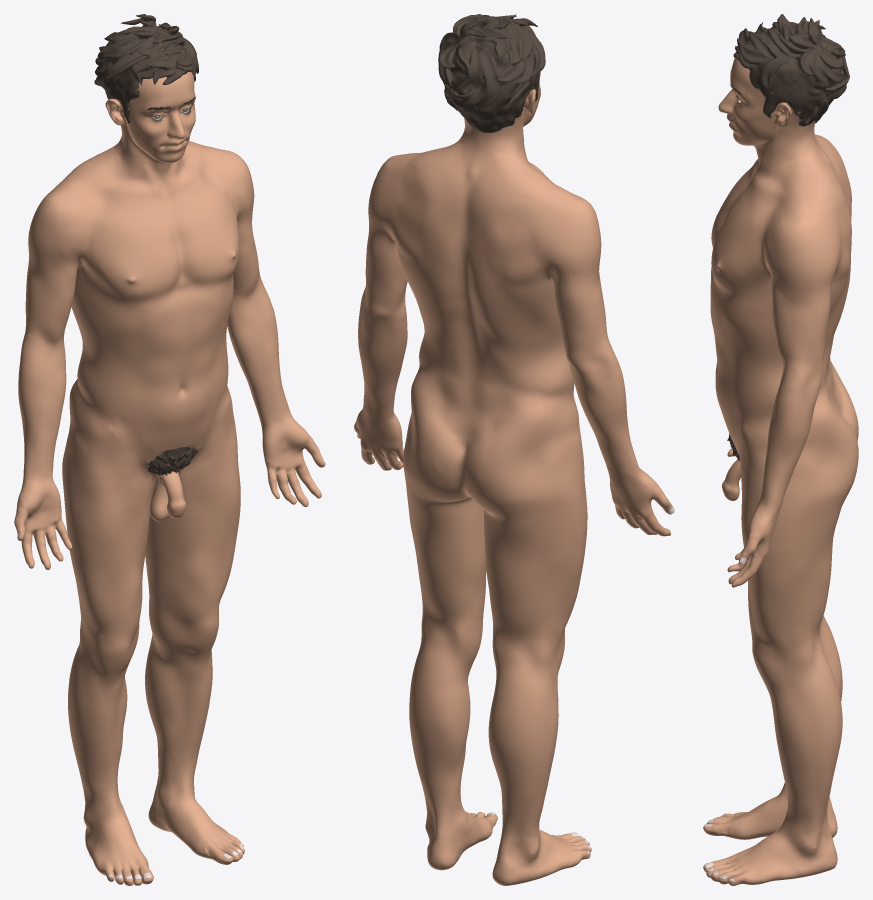
The model's file is skin.glb.
3 views of the same model, side by side, from view 1: azimuth 30°, elevation 25°; view 2: azimuth 150°, elevation 25°; view 3: azimuth 270°, elevation 25° (orthographic). The views are drawn at different scales.
Visible parts, largest first — view 1: SKN.anterior_region_of_thigh.R, SKN.anterior_region_of_thigh.L, SKN.hairs_of_head.C, SKN.anterior_region_of_leg.L, SKN.anterior_region_of_leg.R, SKN.pectoral_region.R, SKN.deltoid_region.R, SKN.anterior_region_of_forearm.L, SKN.anterior_region_of_forearm.R, SKN.lateral_region_of_thorax.R, SKN.lateral_region_of_abdomen.R, SKN.pectoral_region.L (+47 smaller); view 2: SKN.posterior_region_of_thigh.R, SKN.hairs_of_head.C, SKN.gluteal_region.R, SKN.posterior_region_of_thigh.L, SKN.posterior_region_of_leg.R, SKN.posterior_region_of_leg.L, SKN.gluteal_region.L, SKN.scapular_region.R, SKN.posterior_region_of_arm.R, SKN.infrascapular_region.R, SKN.scapular_region.L, SKN.posterior_region_of_forearm.R (+32 smaller); view 3: SKN.hairs_of_head.C, SKN.anterior_region_of_thigh.L, SKN.posterior_region_of_thigh.L, SKN.deltoid_region.L, SKN.gluteal_region.L, SKN.posterior_region_of_leg.L, SKN.lateral_region_of_thorax.L, SKN.anterior_region_of_leg.L, SKN.lateral_region_of_abdomen.L, SKN.pectoral_region.L, SKN.posterior_region_of_arm.L, SKN.posterior_region_of_neck.L (+45 smaller).
Boxes of the visible parts, left/top/right/bottom form: SKN.anterior_region_of_thigh.R: left=69, top=380, right=155, bottom=635; SKN.anterior_region_of_thigh.L: left=150, top=379, right=240, bottom=615; SKN.hairs_of_head.C: left=94, top=14, right=198, bottom=123; SKN.anterior_region_of_leg.L: left=153, top=654, right=212, bottom=779; SKN.anterior_region_of_leg.R: left=74, top=675, right=127, bottom=798; SKN.pectoral_region.R: left=95, top=205, right=174, bottom=303; SKN.deltoid_region.R: left=28, top=174, right=88, bottom=272; SKN.anterior_region_of_forearm.L: left=228, top=303, right=292, bottom=425; SKN.anterior_region_of_forearm.R: left=22, top=360, right=66, bottom=481; SKN.lateral_region_of_thorax.R: left=71, top=226, right=147, bottom=333; SKN.lateral_region_of_abdomen.R: left=77, top=343, right=147, bottom=422; SKN.pectoral_region.L: left=183, top=180, right=239, bottom=284; SKN.posterior_region_of_thigh.R: left=484, top=496, right=579, bottom=641; SKN.hairs_of_head.C: left=438, top=14, right=545, bottom=133; SKN.gluteal_region.R: left=461, top=392, right=566, bottom=518; SKN.posterior_region_of_thigh.L: left=404, top=474, right=485, bottom=624; SKN.posterior_region_of_leg.R: left=488, top=688, right=554, bottom=830; SKN.posterior_region_of_leg.L: left=409, top=667, right=468, bottom=813; SKN.gluteal_region.L: left=403, top=362, right=470, bottom=502; SKN.scapular_region.R: left=487, top=191, right=559, bottom=287; SKN.posterior_region_of_arm.R: left=543, top=242, right=606, bottom=348; SKN.infrascapular_region.R: left=475, top=274, right=546, bottom=354; SKN.scapular_region.L: left=379, top=164, right=436, bottom=266; SKN.posterior_region_of_forearm.R: left=571, top=368, right=640, bottom=475; SKN.hairs_of_head.C: left=733, top=14, right=849, bottom=126; SKN.anterior_region_of_thigh.L: left=738, top=407, right=787, bottom=646; SKN.posterior_region_of_thigh.L: left=783, top=507, right=841, bottom=646; SKN.deltoid_region.L: left=763, top=197, right=833, bottom=297; SKN.gluteal_region.L: left=798, top=396, right=858, bottom=509; SKN.posterior_region_of_leg.L: left=798, top=679, right=842, bottom=822; SKN.lateral_region_of_thorax.L: left=715, top=230, right=846, bottom=343; SKN.anterior_region_of_leg.L: left=770, top=697, right=806, bottom=822; SKN.lateral_region_of_abdomen.L: left=723, top=347, right=782, bottom=416; SKN.pectoral_region.L: left=711, top=197, right=768, bottom=290; SKN.posterior_region_of_arm.L: left=799, top=248, right=839, bottom=364; SKN.posterior_region_of_neck.L: left=785, top=120, right=834, bottom=199.
Bounding box in the file's own units: 0.6801 × 1.74 × 0.2936.
